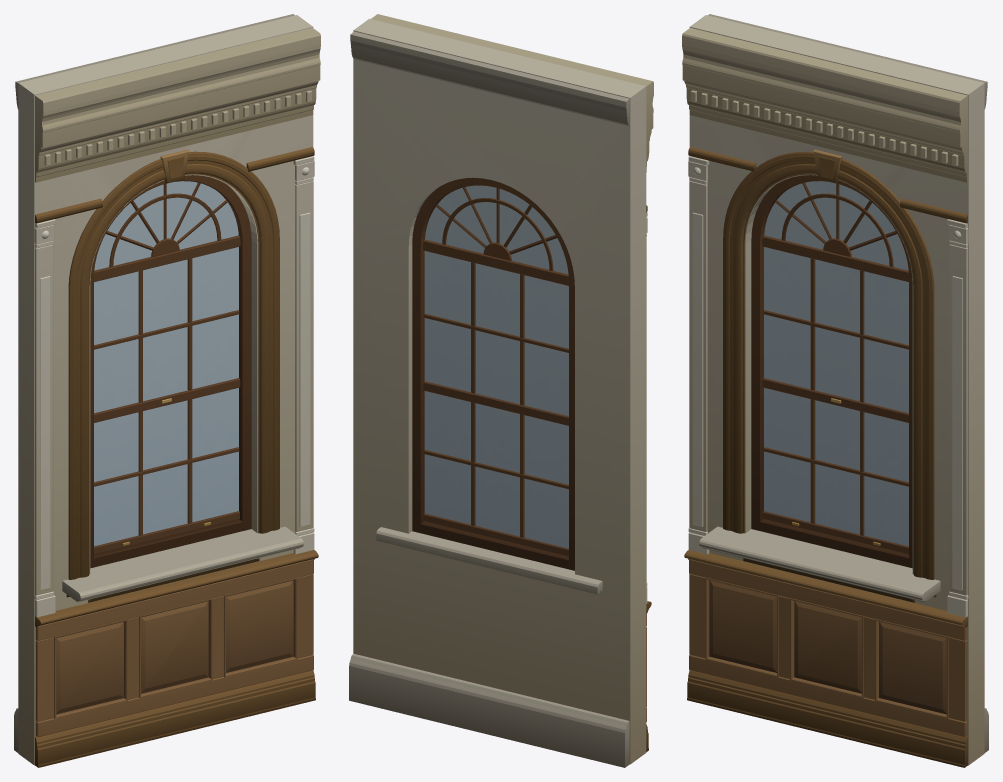
Rendered from arched-window.glb.
The picture shows the model from 3 angles, left to right: view 1: azimuth 30°, elevation 25°; view 2: azimuth 150°, elevation 25°; view 3: azimuth 330°, elevation 25°; orthographic projection.
Visible parts, largest first — view 1: arched_window; view 2: arched_window; view 3: arched_window.
Part boxes in pixels (x1,y1,x2,y2): arched_window: (14,14,320,767); arched_window: (349,14,653,767); arched_window: (682,14,988,767).
Bounding box in the file's own units: 2 × 4.6 × 0.49.
